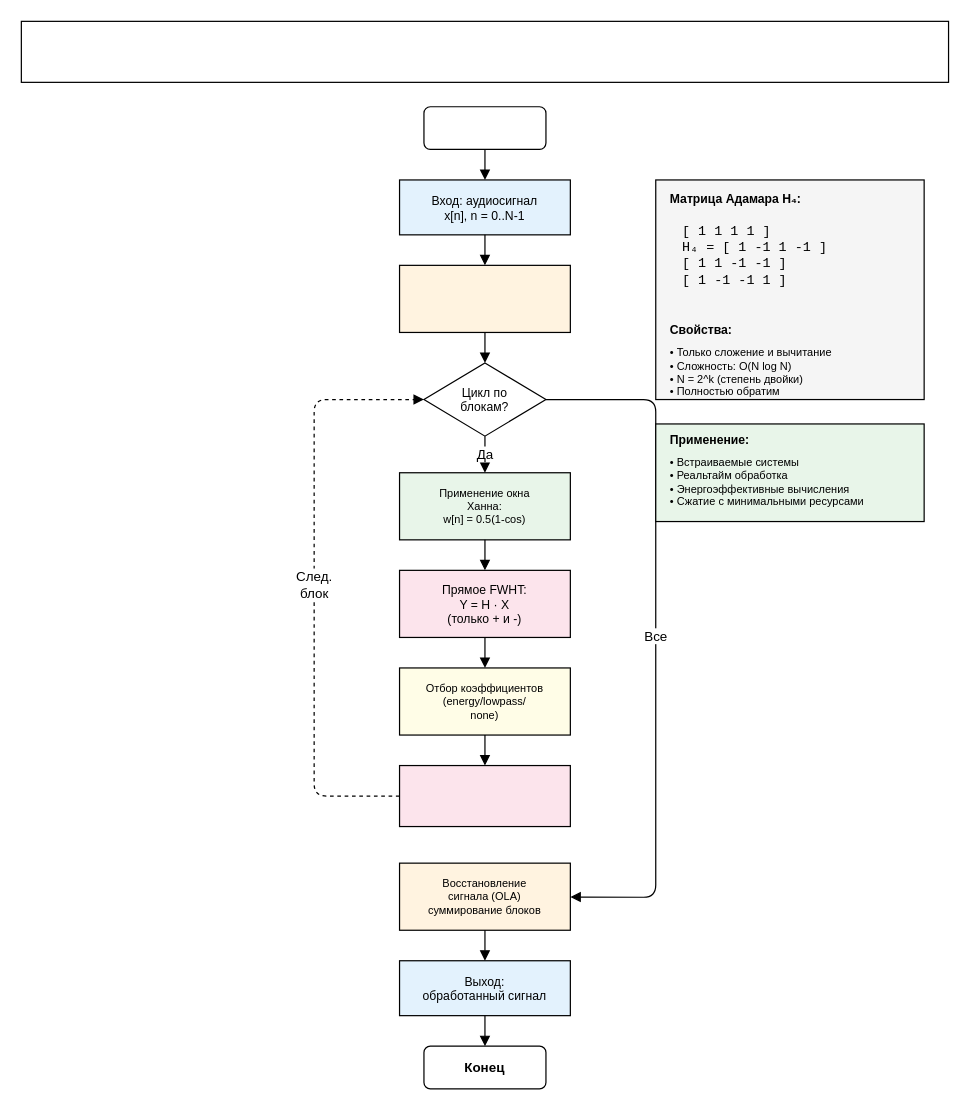
This 970x1110 diagram has some shape labels left out. Each missing label, with the centre of its shape:
Метод FWHT — Быстрое преобразование Уолша-Адамара Лист 1 из 1: (484,51)
Начало: (484,127)
Обратное FWHT: X' = H · Y / N: (484,795)
Разбиение на блоки размером B = 2^k (OLA): (484,298)
